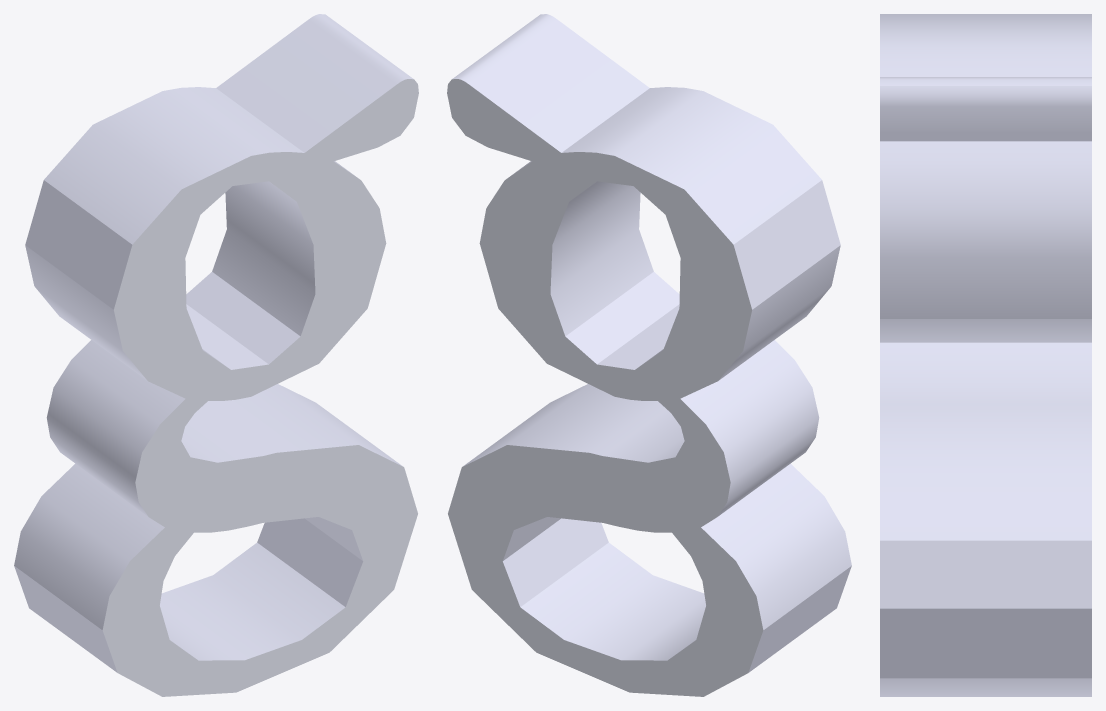
File: G_Soul_Grey.glb
3 renders of one model, left to right at view 1: azimuth 30°, elevation 25°; view 2: azimuth 150°, elevation 25°; view 3: azimuth 270°, elevation 25°, orthographic. The views are drawn at different scales.
Visible parts, largest first — view 1: g_Soul_Grey; view 2: g_Soul_Grey; view 3: g_Soul_Grey.
Boxes of the visible parts, x1=… form: g_Soul_Grey: x1=14, y1=14, x2=418, y2=696; g_Soul_Grey: x1=447, y1=14, x2=851, y2=696; g_Soul_Grey: x1=880, y1=14, x2=1091, y2=696.
Size of what is drawn, in the model's own units: 0.0928 by 0.1603 by 0.045.
2 materials, 2 textured.
